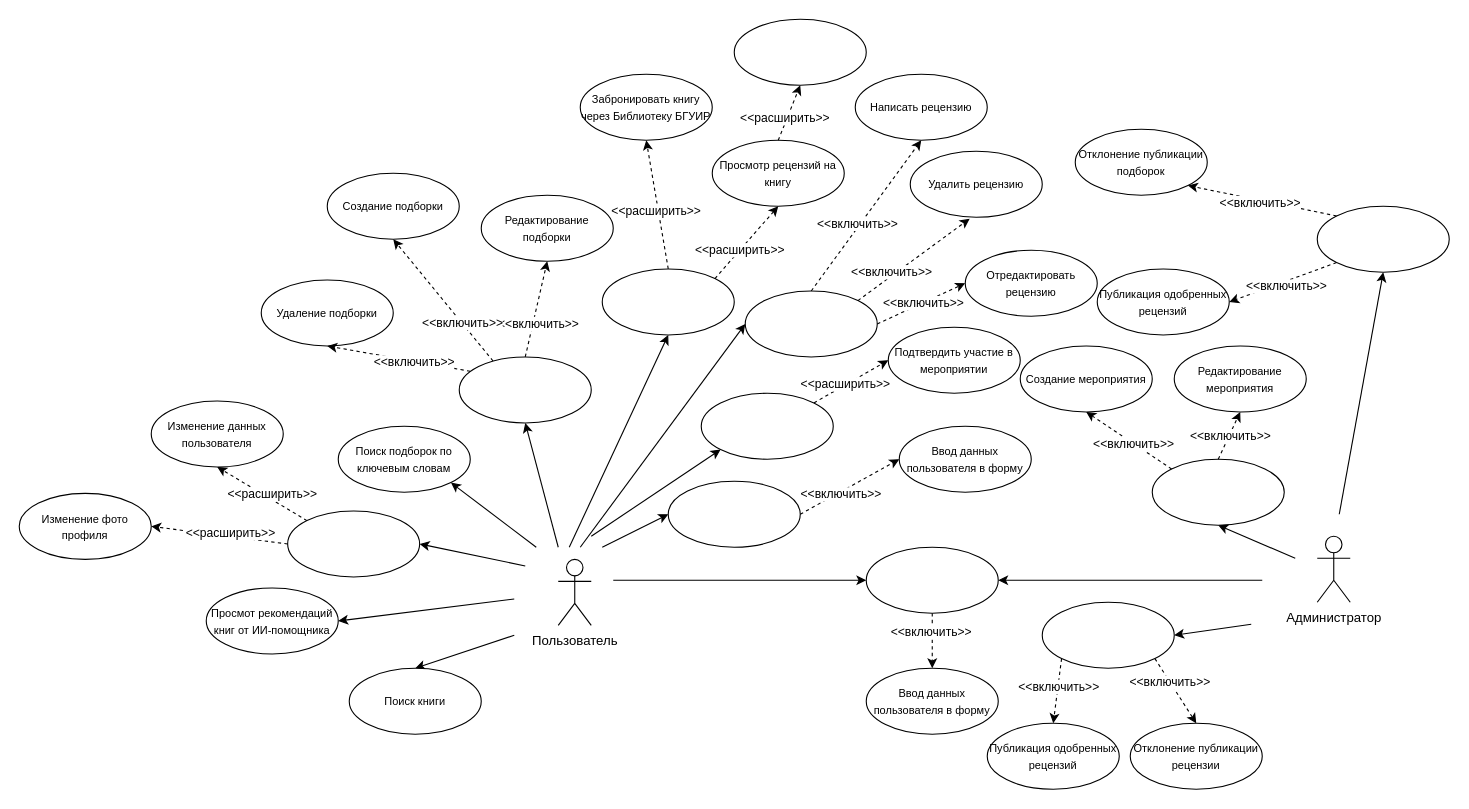
This 1469x809 diagram has some shape labels left out. The shapes that lost their labels are listed below. From the top down, each one's centre as x and y in pixels, then its label:
the point at 799,51: Написать комментарий на рецензию
the point at 1382,238: Управление подборками
the point at 667,301: Просмотр информации о книге
the point at 810,323: Управление рецензиями
the point at 524,389: Управление подборками пользователя
the point at 766,425: Просмотр анонсов мероприятий
the point at 1217,491: Управление мероприятиями
the point at 733,513: Регистрация в системе
the point at 353,543: Управление личным профилем пользователя
the point at 931,579: Авторизация в системе
the point at 1107,634: Управление реценз иями
